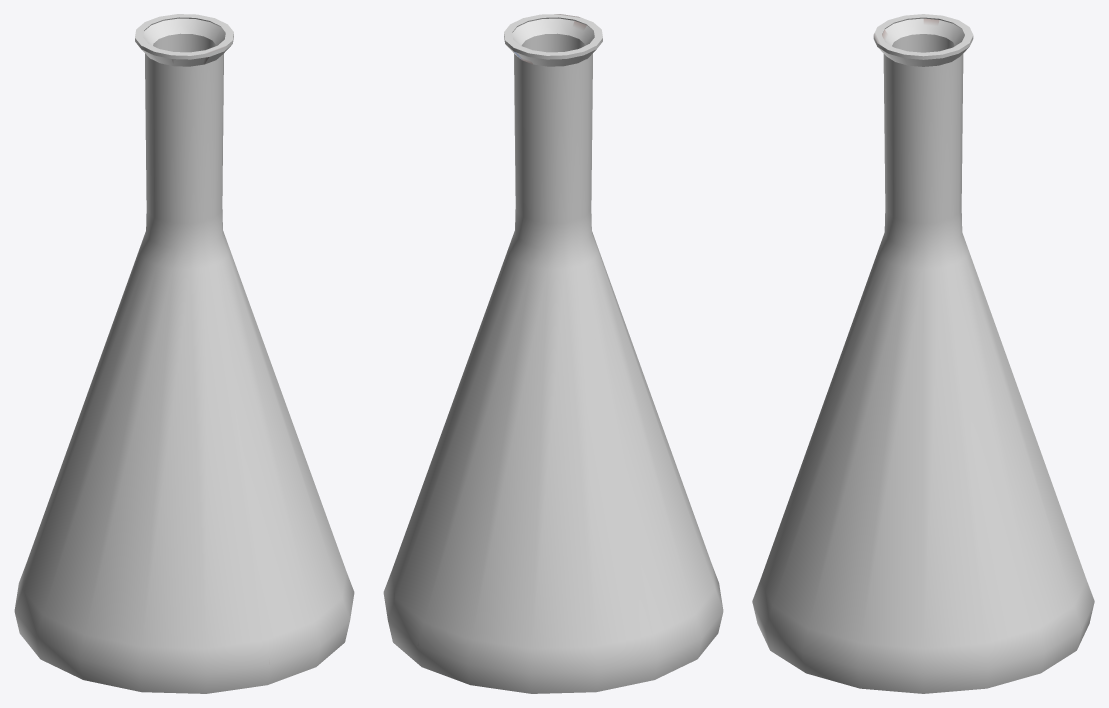
The model's file is Lab_Tools_Flask.fbx.
3 renders of one model, left to right at view 1: azimuth 30°, elevation 25°; view 2: azimuth 150°, elevation 25°; view 3: azimuth 270°, elevation 25°, orthographic.
Visible parts, largest first — view 1: Flask; view 2: Flask; view 3: Flask.
Boxes of the visible parts, x1,y1,x2,y2 form: Flask: [14, 14, 354, 693]; Flask: [383, 14, 723, 693]; Flask: [752, 14, 1094, 693].
Bounding box in the file's own units: 0.1307 × 0.2565 × 0.1307.
